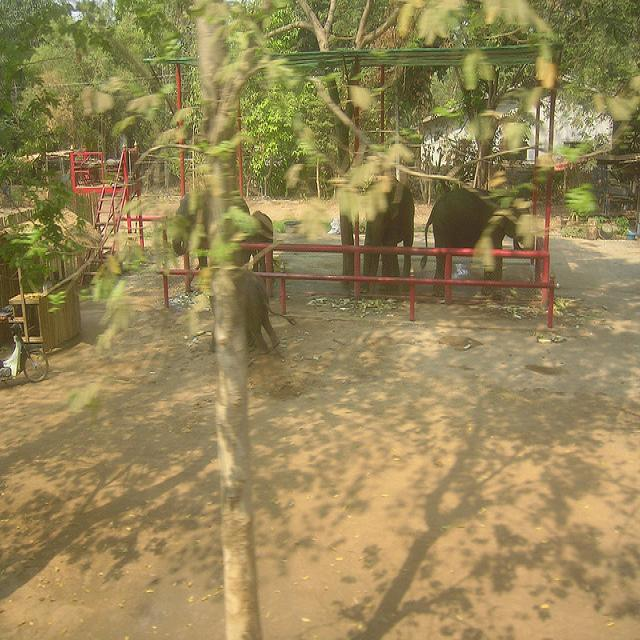motor: (0, 317, 48, 385)
